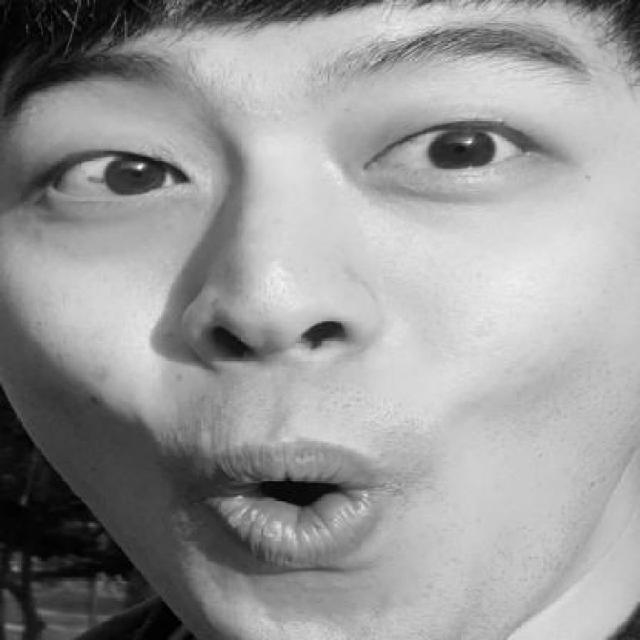happy: (9, 11, 614, 569)
